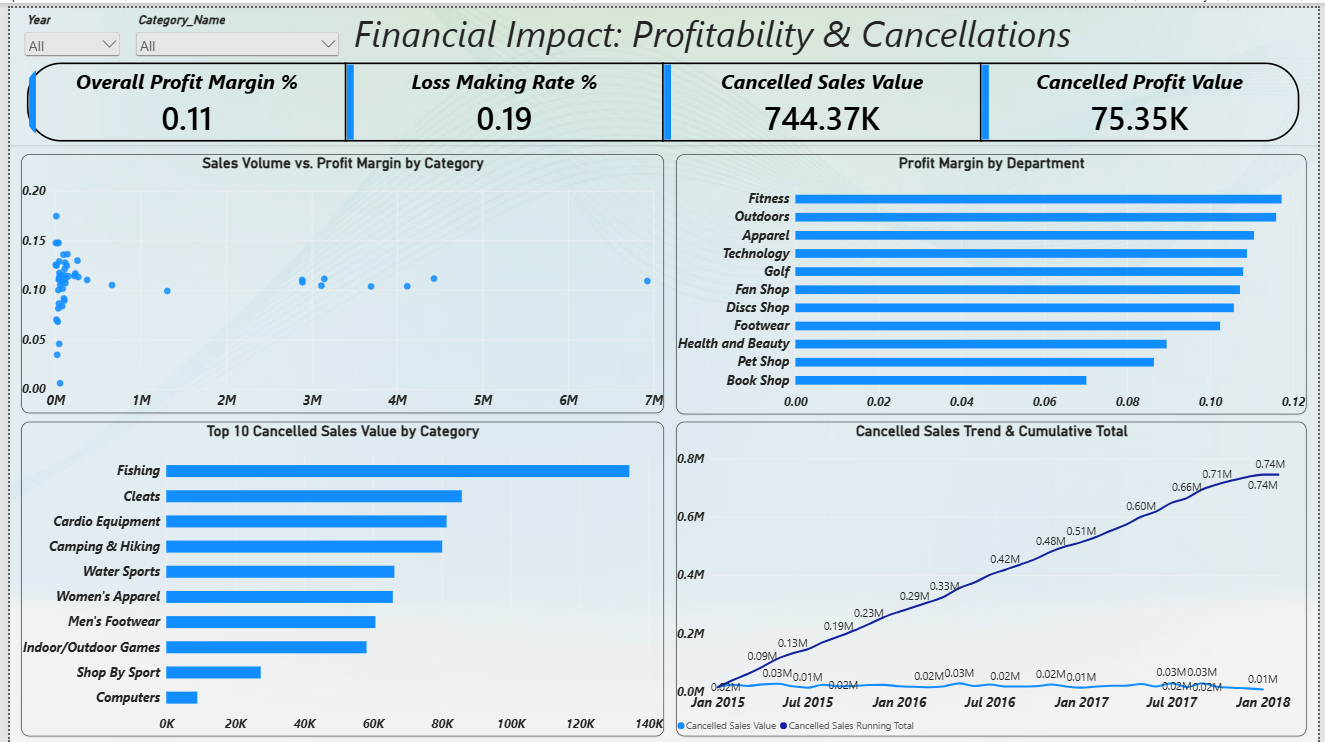

What the dashboard file says about the page in this screenshot:
{"tool":"powerbi","page":{"name":"Financial Impact: Profitability & Cancellations","canvas":[1920,1080],"ordinal":2},"visuals":[{"type":"cardVisual","fields":{"Data":["Table.Overall Profit Margin %","Table.Loss Making Rate %","Table.Cancelled Sales Value","Table.Cancelled Profit Value"]},"box":[0,75.2,1920.5,126.6],"z":0},{"type":"scatterChart","title":"Sales Volume vs. Profit Margin by Category","fields":{"Category":["supply_chain dim_products.Category_Name"],"X":["Table.Total Sales"],"Y":["Table.Overall Profit Margin %"]},"box":[16.3,215.3,942.8,380],"z":1000},{"type":"barChart","title":"Profit Margin by Department","fields":{"Category":["supply_chain dim_products.Department_Name"],"Y":["Table.Overall Profit Margin %"]},"box":[977.7,214.6,924.5,381.5],"z":2000},{"type":"lineChart","title":"Cancelled Sales Trend & Cumulative Total","fields":{"Y":["Table.Cancelled Sales Value","Table.Cancelled Sales Running Total"],"Category":["supply_chain dim_date.Date.Variation.Date Hierarchy.Year","supply_chain dim_date.Date.Variation.Date Hierarchy.Month"]},"box":[977.2,606.2,924.7,461.5],"z":3000},{"type":"barChart","title":"Top 10 Cancelled Sales Value by Category","fields":{"Category":["supply_chain dim_products.Category_Name"],"Y":["Table.Cancelled Sales Value"]},"box":[16.3,606.2,942.8,461.5],"z":4000},{"type":"textbox","box":[504.4,0,1137.2,75.2],"z":5000},{"type":"slicer","fields":{"Values":["supply_chain dim_products.Category_Name"]},"box":[180,8,308,64],"z":6000},{"type":"slicer","fields":{"Values":["supply_chain dim_date.Year"]},"box":[16,8,150,64],"z":7000}]}

Visuals, with their boxes in screenshot pixels (x1, y1, x2, y2), scaled from the page's 1920x1080 canvas onto the 1325x742 screenshot:
cardVisual - Table.Overall Profit Margin % x Table.Loss Making Rate %: bbox(0, 52, 1324, 139)
"Sales Volume vs. Profit Margin by Category" scatterChart: bbox(11, 148, 662, 409)
"Profit Margin by Department" barChart: bbox(675, 147, 1313, 410)
"Cancelled Sales Trend & Cumulative Total" lineChart: bbox(674, 416, 1313, 734)
"Top 10 Cancelled Sales Value by Category" barChart: bbox(11, 416, 662, 734)
textbox: bbox(348, 0, 1133, 52)
slicer - supply_chain dim_products.Category_Name: bbox(124, 5, 337, 49)
slicer - supply_chain dim_date.Year: bbox(11, 5, 115, 49)
